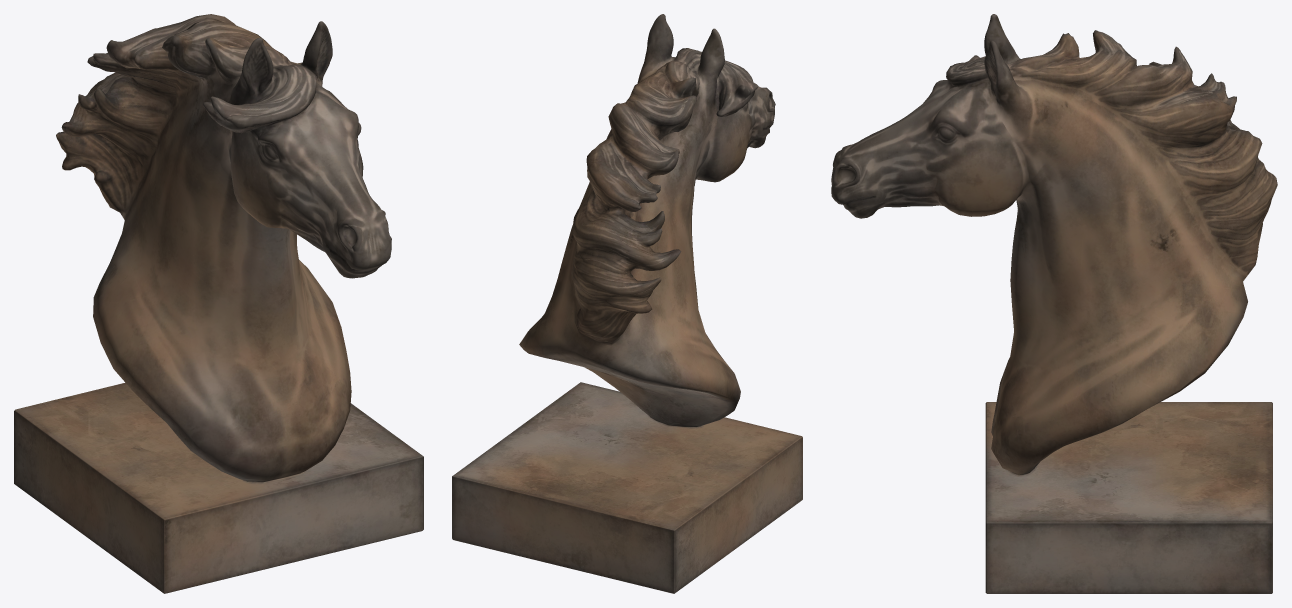
Rendered from horsehead.glb.
The picture shows the model from 3 angles, left to right: view 1: azimuth 30°, elevation 25°; view 2: azimuth 150°, elevation 25°; view 3: azimuth 270°, elevation 25°; orthographic projection. The views are drawn at different scales.
Visible parts, largest first — view 1: horse_head_horse_head_0; view 2: horse_head_horse_head_0; view 3: horse_head_horse_head_0.
Part boxes in pixels (left/top/right/bottom): horse_head_horse_head_0: left=14, top=14, right=423, bottom=593; horse_head_horse_head_0: left=452, top=14, right=802, bottom=593; horse_head_horse_head_0: left=831, top=14, right=1277, bottom=593.
Bounding box in the file's own units: 0.2149 × 0.4187 × 0.3341.
Materials: 1 (1 with a texture image).
